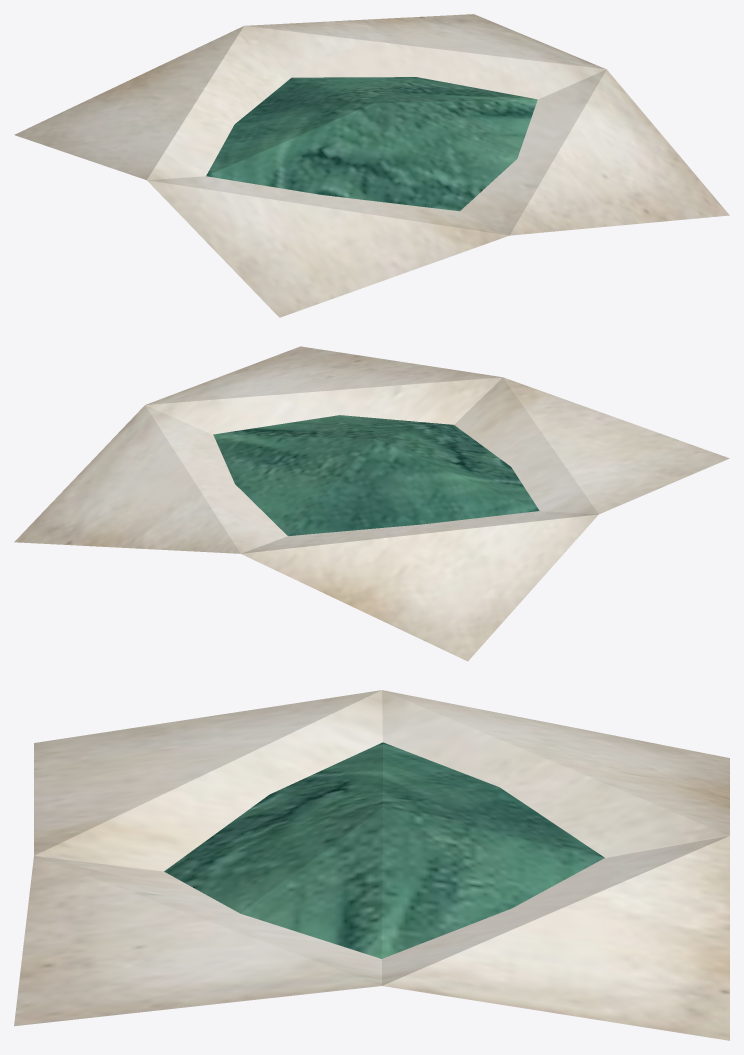
The picture shows the model from 3 angles, top to bottom: view 1: azimuth 30°, elevation 25°; view 2: azimuth 150°, elevation 25°; view 3: azimuth 270°, elevation 25°; orthographic projection. The views are drawn at different scales.
Parts seen in each view (by area): view 1: Plane; view 2: Plane; view 3: Plane.
Boxes of the visible parts, x1=… form: Plane: x1=14, y1=14, x2=729, y2=317; Plane: x1=14, y1=346, x2=729, y2=661; Plane: x1=14, y1=690, x2=729, y2=1040.
Bounding box in the file's own units: 2 × 0.3038 × 2.06.
1 material, 1 textured.
